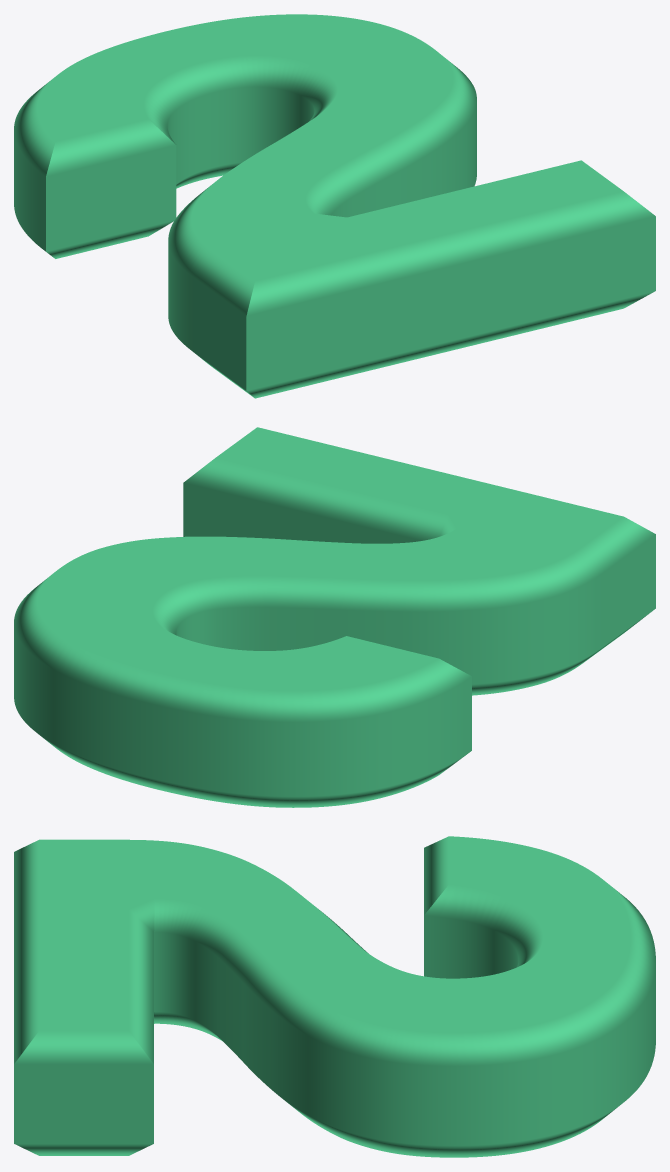
3 renders of one model, top to bottom at view 1: azimuth 30°, elevation 25°; view 2: azimuth 150°, elevation 25°; view 3: azimuth 270°, elevation 25°, orthographic. The views are drawn at different scales.
Parts seen in each view (by area): view 1: Text; view 2: Text; view 3: Text.
Part boxes in pixels (x1,y1,x2,y2): Text: [14, 14, 655, 398]; Text: [14, 427, 655, 807]; Text: [14, 836, 655, 1157].
Bounding box in the file's own units: 0.413 × 0.11 × 0.5131.
